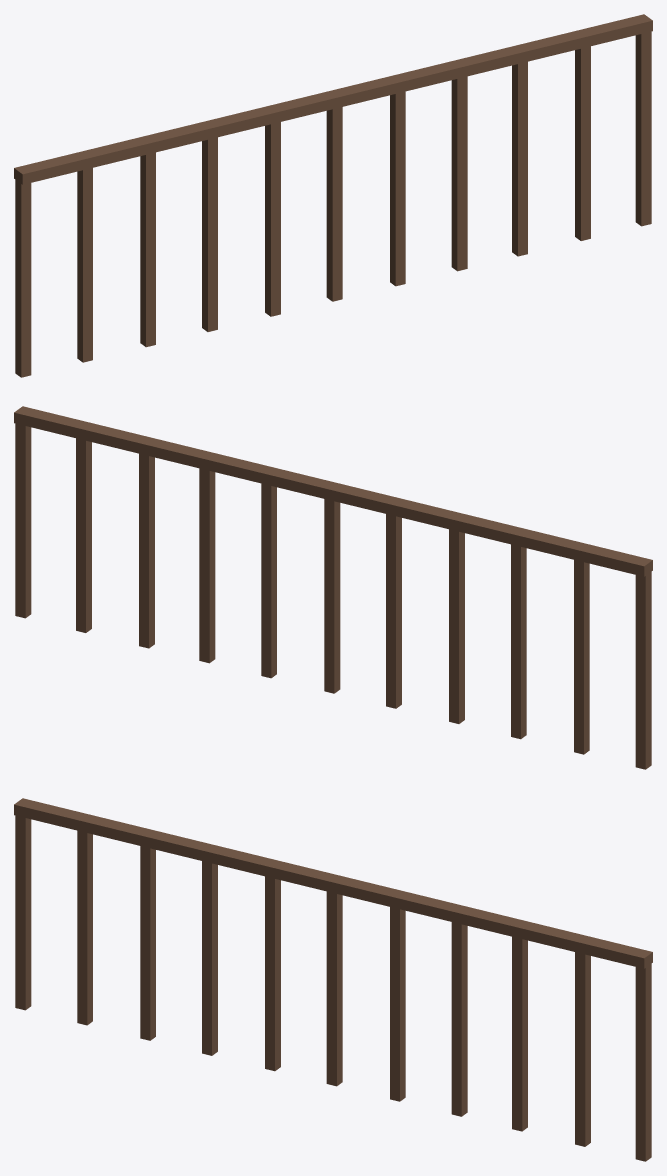
The model's file is SPW_Medieval_Props_Steps Fence_03.glb.
The picture shows the model from 3 angles, top to bottom: view 1: azimuth 30°, elevation 25°; view 2: azimuth 150°, elevation 25°; view 3: azimuth 330°, elevation 25°; orthographic projection.
Parts seen in each view (by area): view 1: SPW_Medieval_Props_Steps Fence_03; view 2: SPW_Medieval_Props_Steps Fence_03; view 3: SPW_Medieval_Props_Steps Fence_03.
Part boxes in pixels (bbox=[...]): SPW_Medieval_Props_Steps Fence_03: bbox=[14, 14, 652, 377]; SPW_Medieval_Props_Steps Fence_03: bbox=[14, 406, 652, 769]; SPW_Medieval_Props_Steps Fence_03: bbox=[14, 798, 652, 1161].
Size of the model in its own units: 2.5 by 0.775 by 0.06.
1 material, 1 textured.
